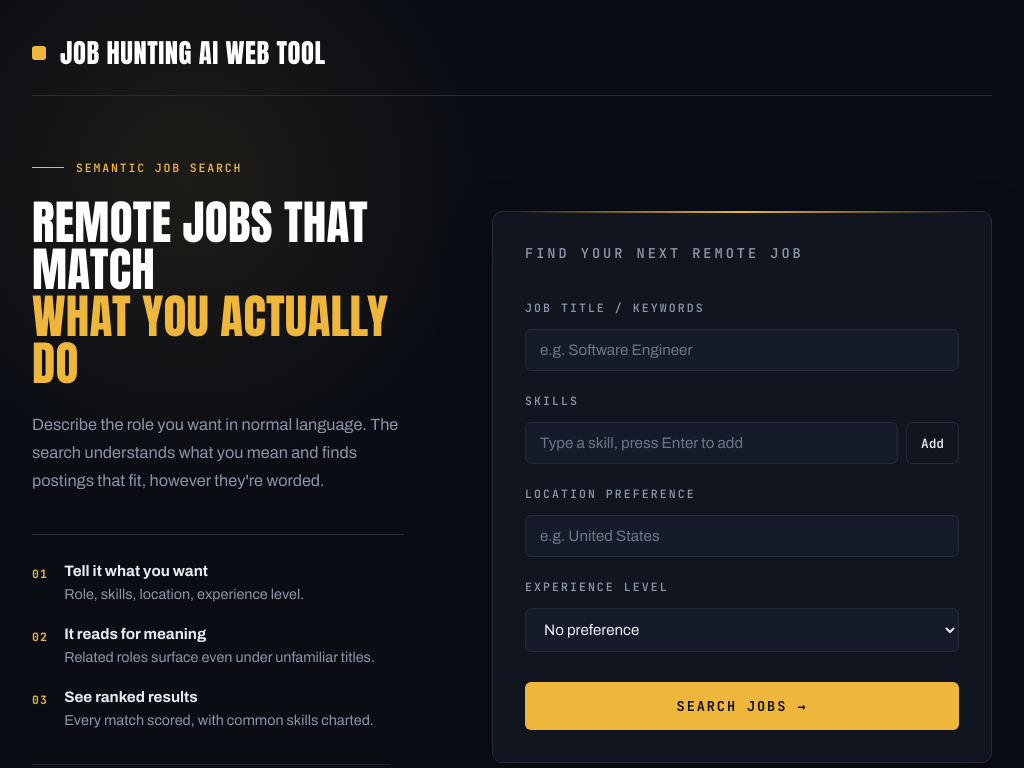
Test: shows the backend-provided error message on a non-OK response
This screenshot has width=1024, height=768.
Click the button "Search Jobs" at (742, 706), box left=525, top=682, right=959, bottom=730
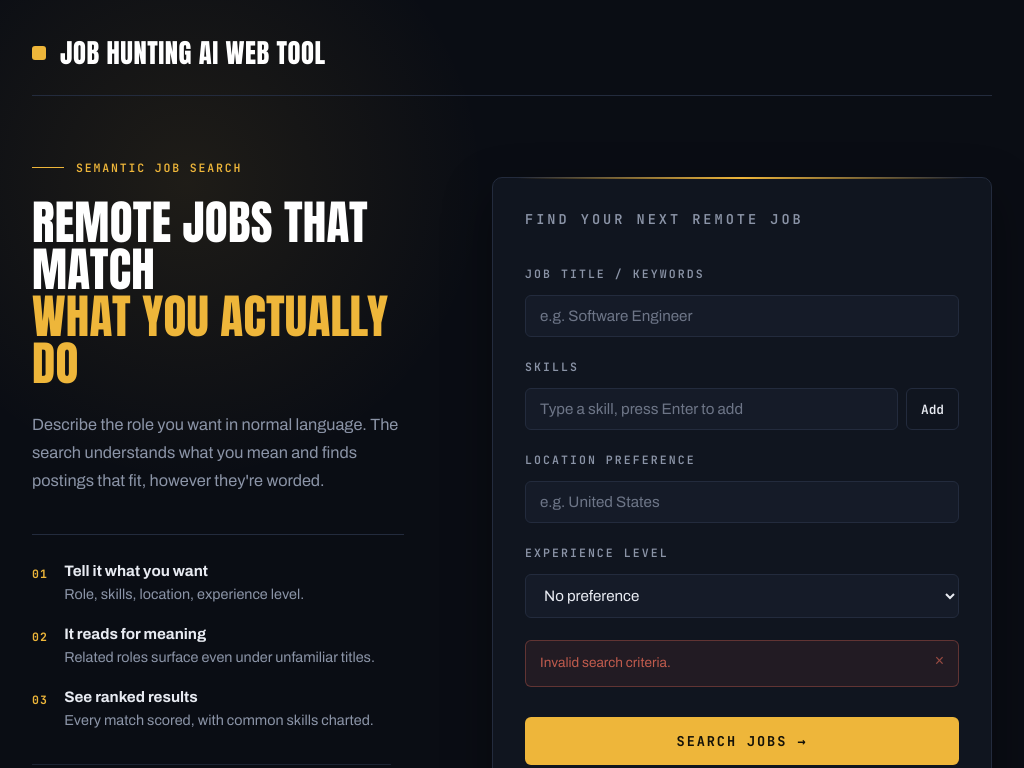
Expected: the text "Invalid search criteria." is shown, left=540, top=653, right=671, bottom=674
